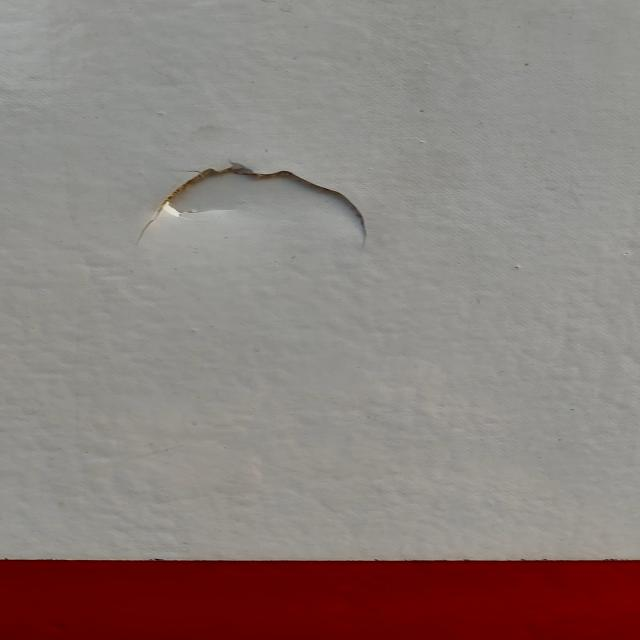Scratches: (135, 157, 377, 260)
